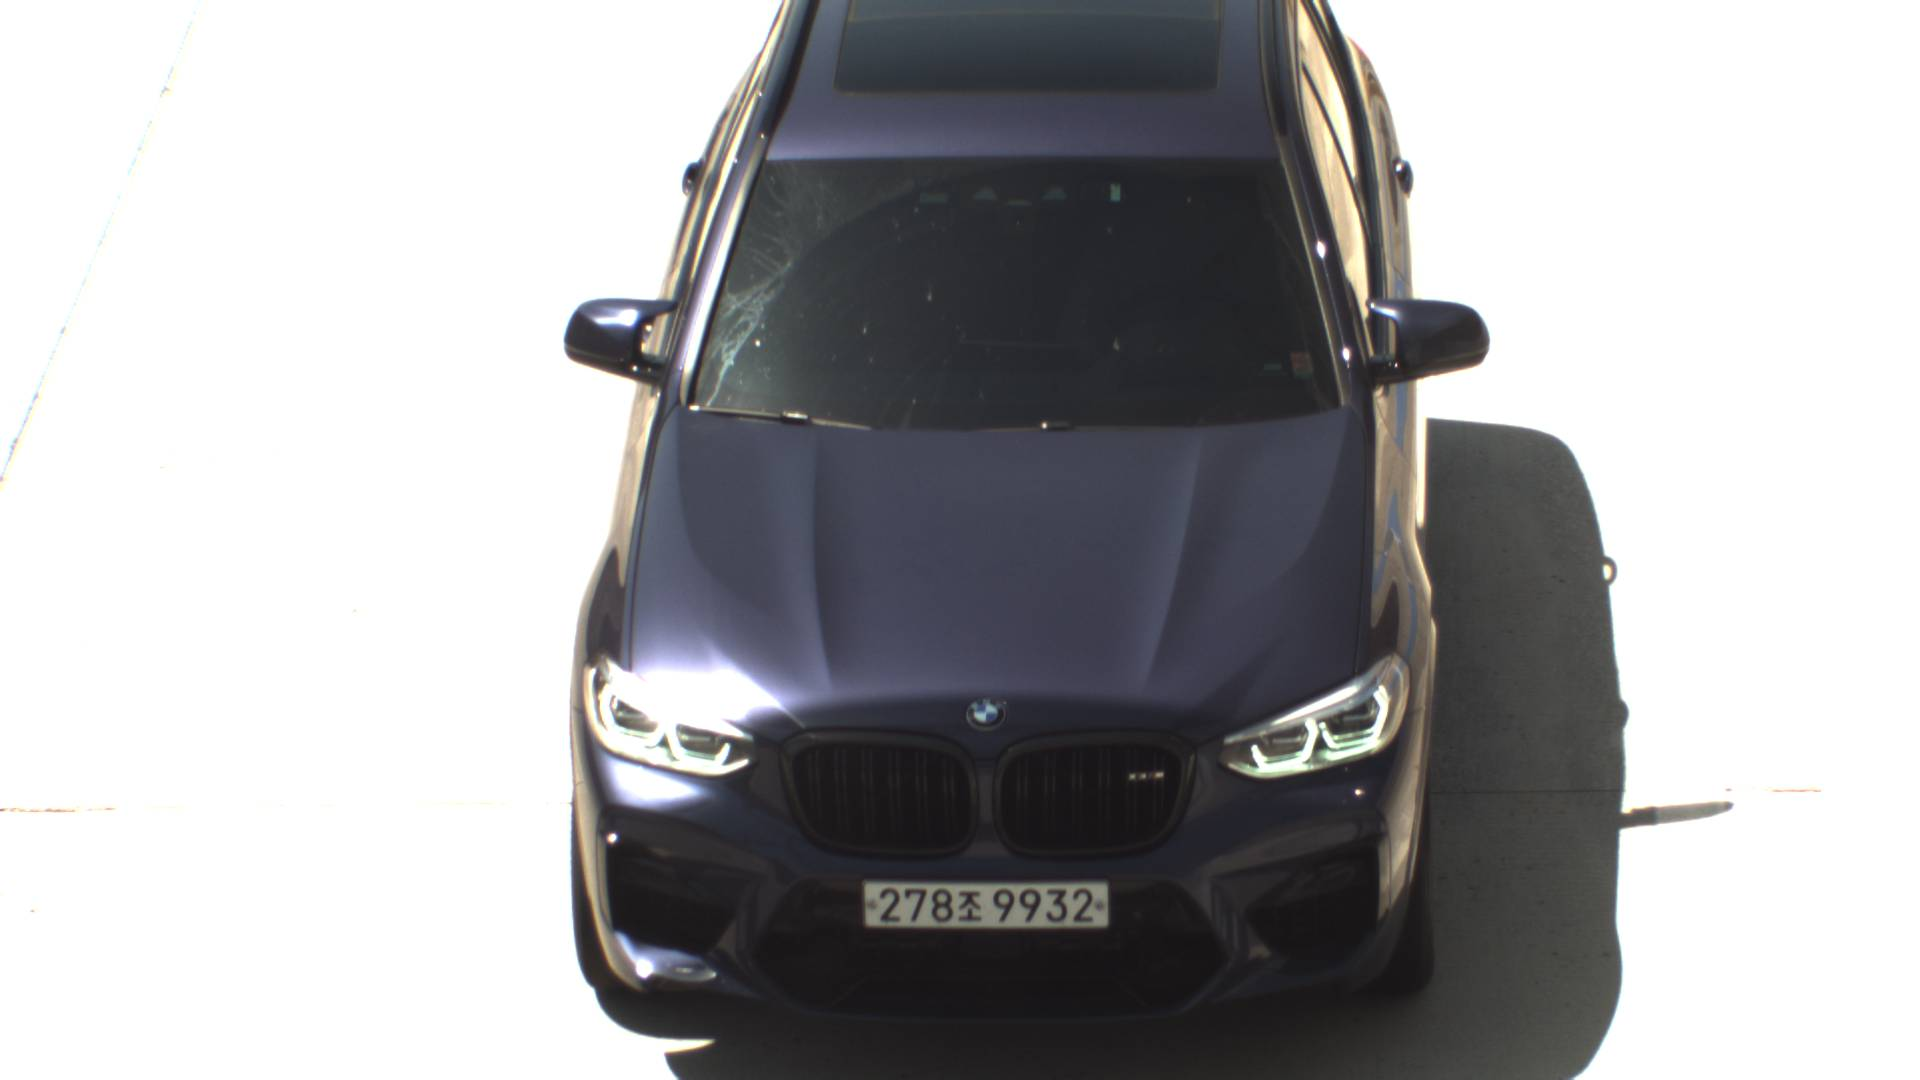car: (553, 1, 1495, 1035)
plate: (857, 877, 1117, 935)
